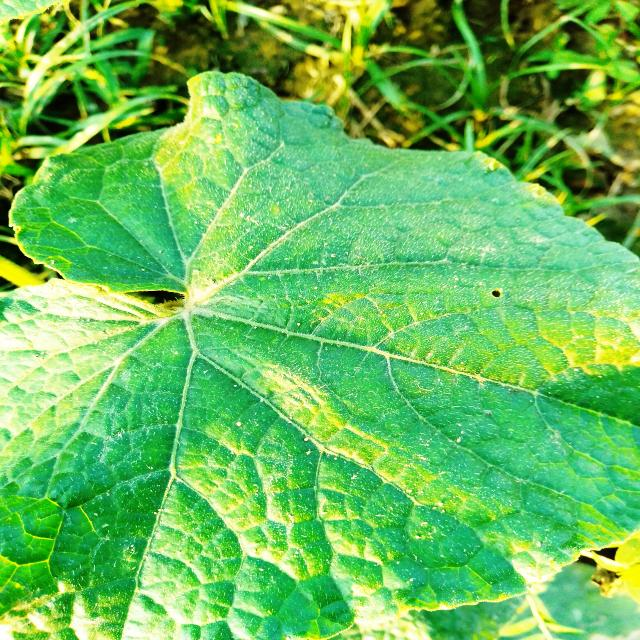Fresh-Leaf: (0, 66, 640, 640)
